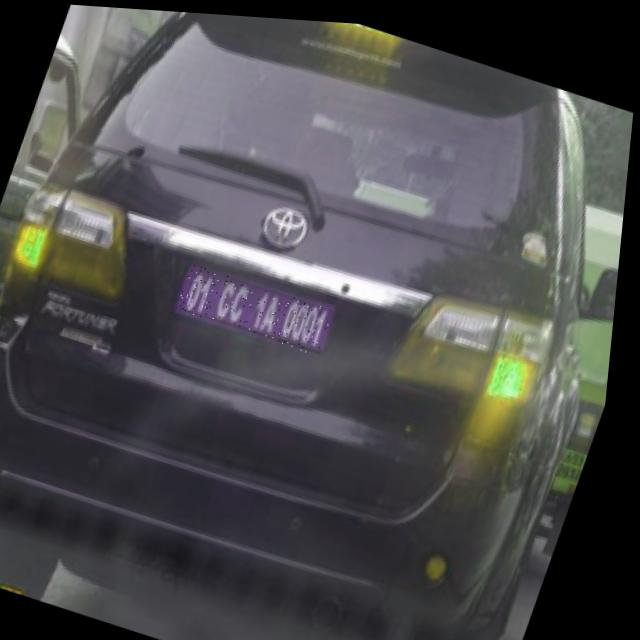license_plate: (177, 260, 344, 352)
